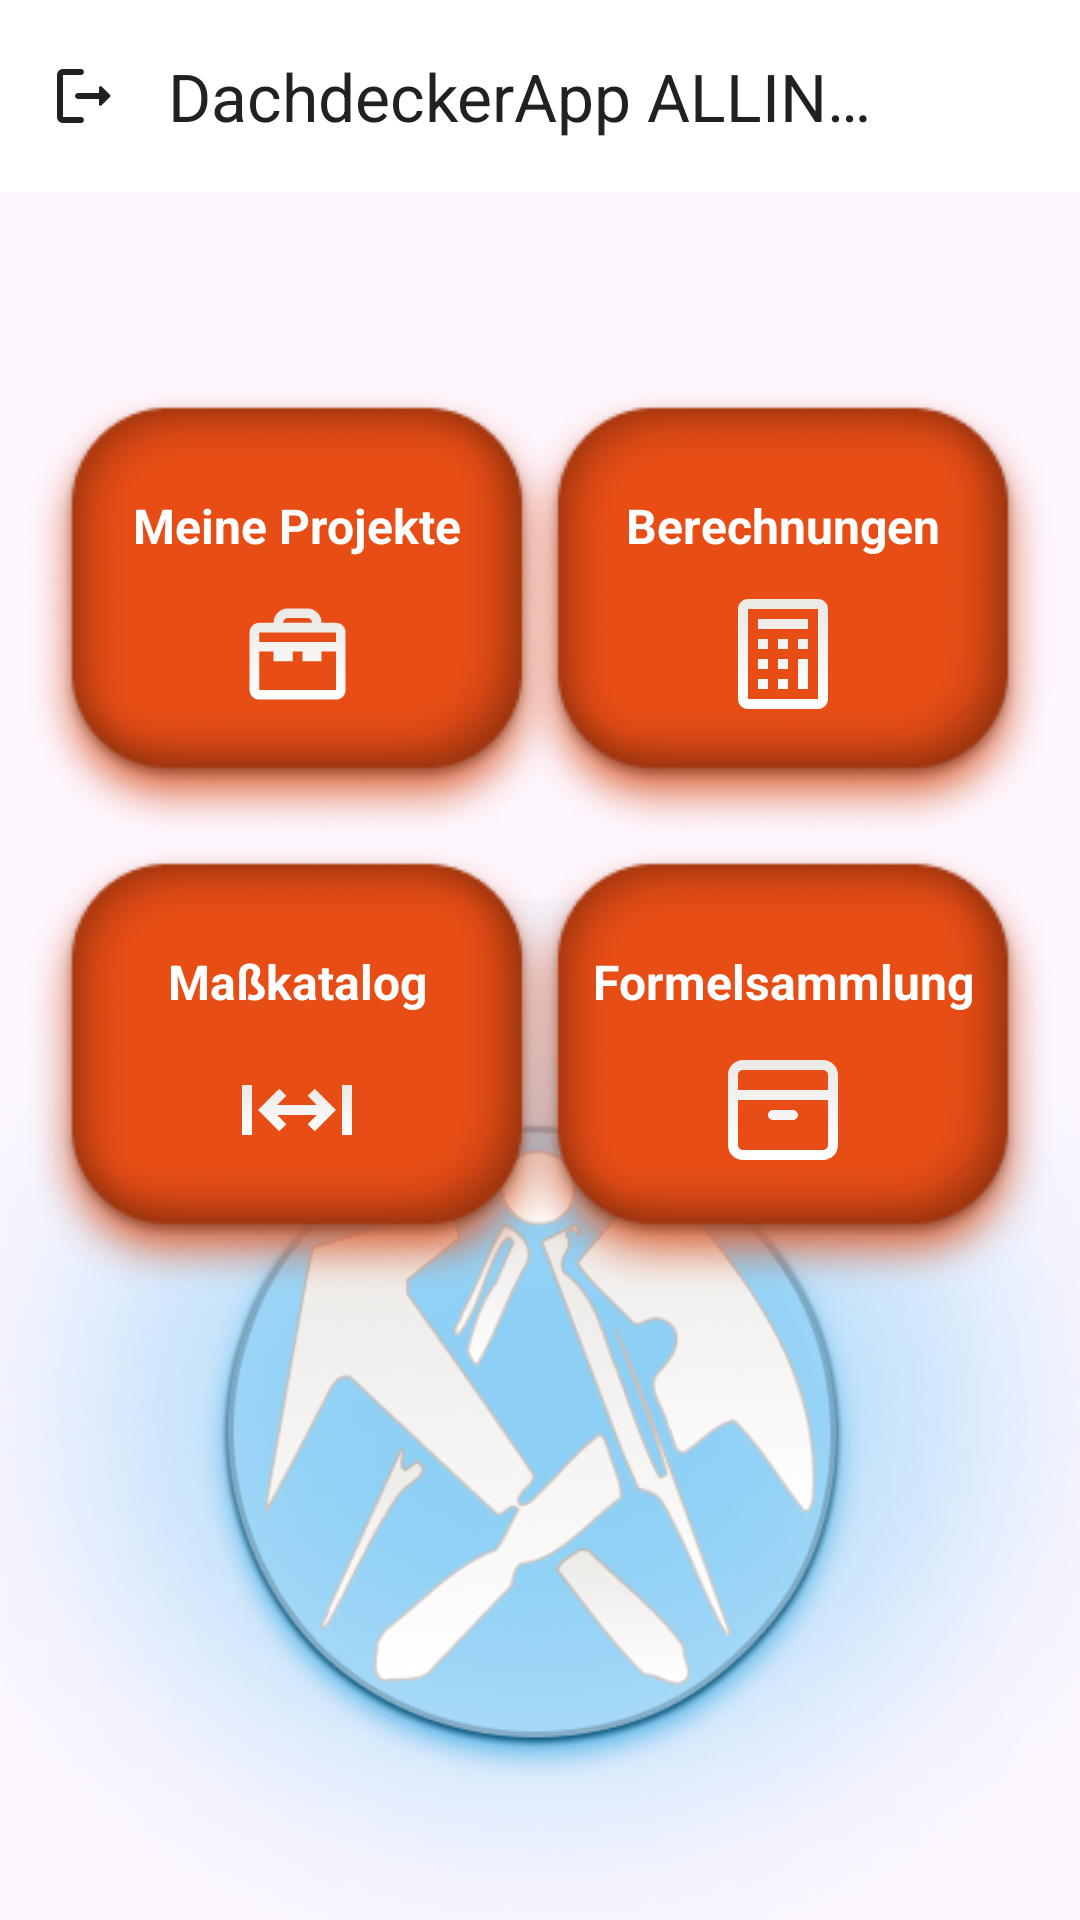

Named icons in this screenshot (1080 × 1920) and their bounding boxes, (x1, y1, x2, y2):
calculations: (738, 599, 828, 709)
dimensions: (242, 1085, 352, 1135)
formcollection: (728, 1060, 838, 1160)
myproject: (249, 608, 346, 700)
